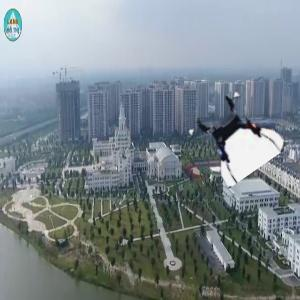drone: (193, 95, 276, 178)
